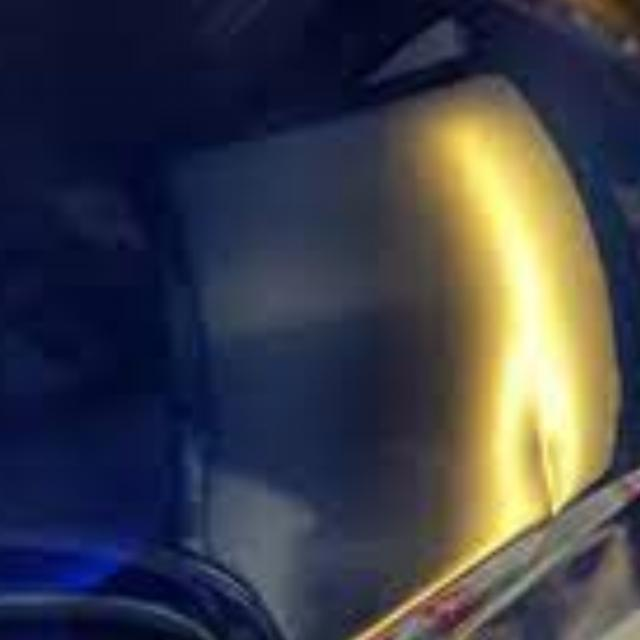dents: (493, 392, 618, 542)
